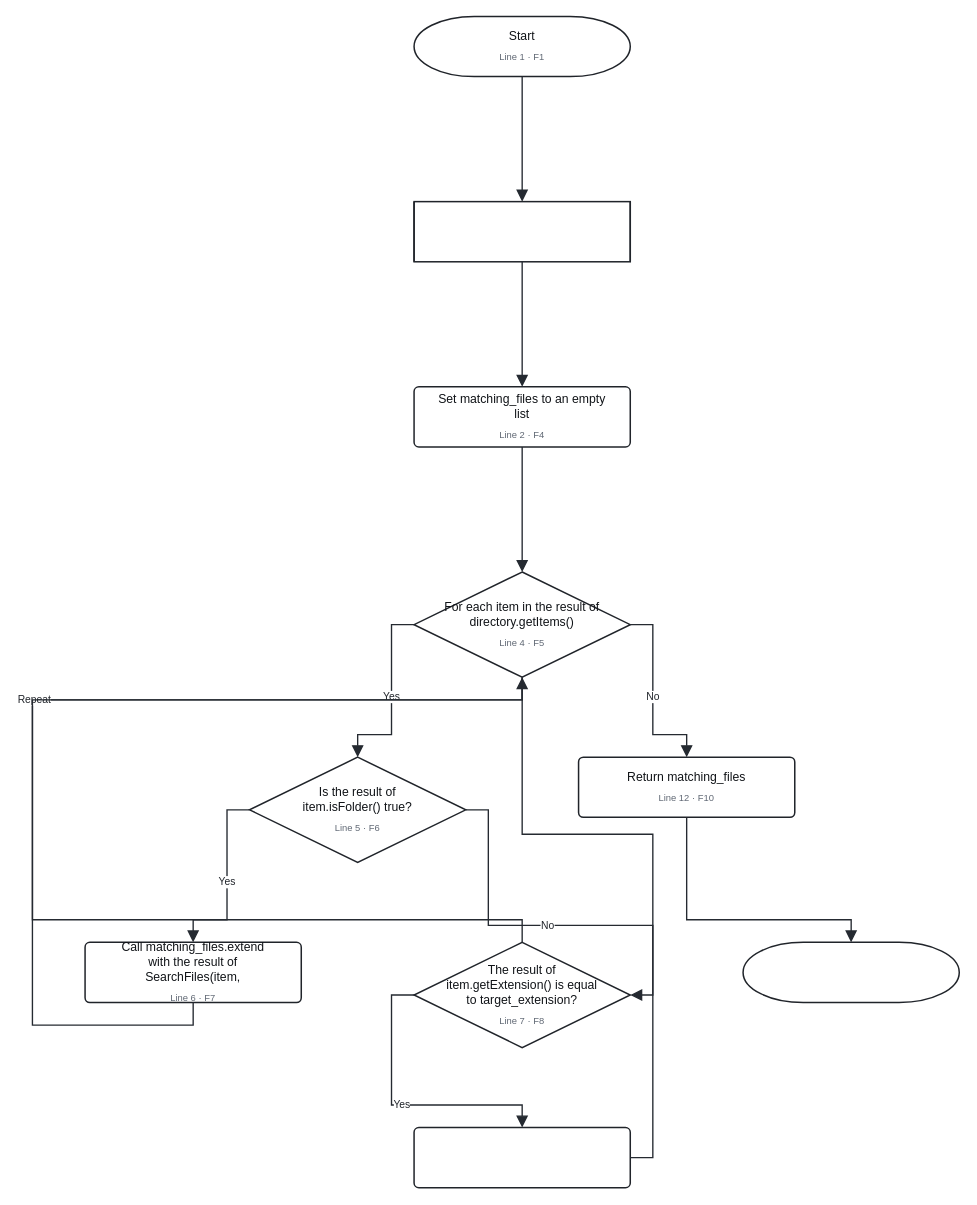
This 977x1205 diagram has some shape labels left out. The centre of each missing label's shape, as x and y in pixels:
Append path of item to matching_files Line 8 · F9: point 522,1157
End Line 1 · F2: point 851,972
Run function SearchFiles with directory, target_extension Line 1 · F3: point 522,231
